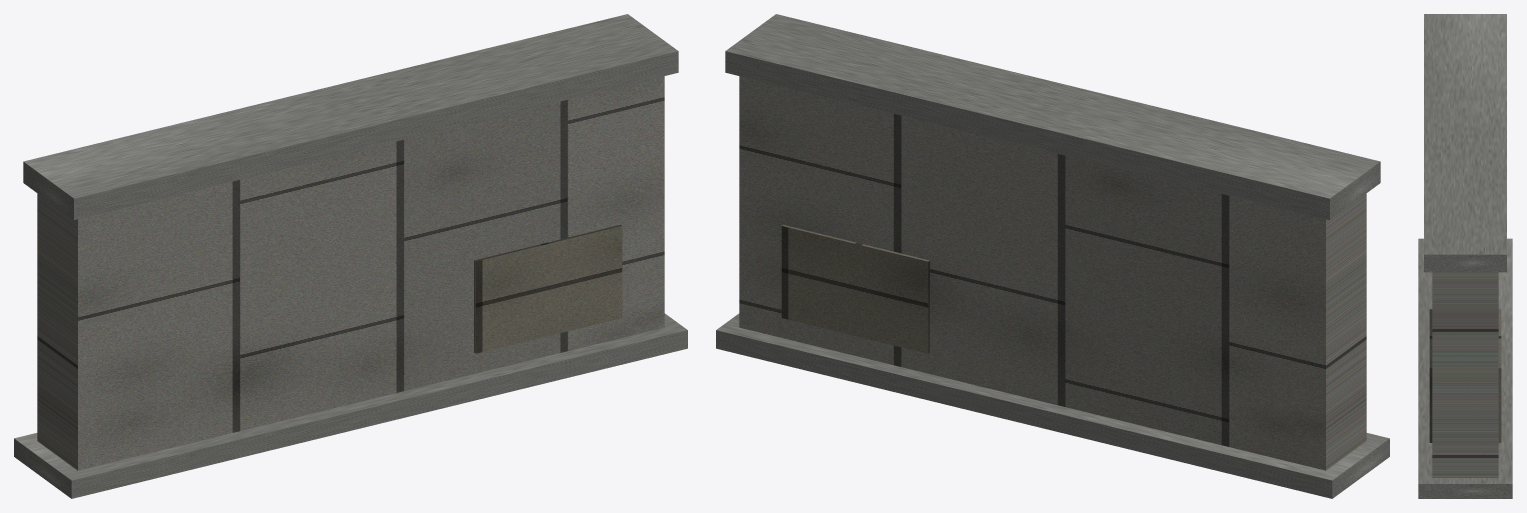
The model's file is WK_WALL_CinderWall2m.glb.
3 views of the same model, side by side, from view 1: azimuth 30°, elevation 25°; view 2: azimuth 150°, elevation 25°; view 3: azimuth 270°, elevation 25° (orthographic). The views are drawn at different scales.
Visible parts, largest first — view 1: WK_WALL_CinderWall2m_P01, WK_WALL_CinderWall2m_P02, WK_WALL_CinderWall2m_P03, WK_WALL_CinderWall2m_P04; view 2: WK_WALL_CinderWall2m_P01, WK_WALL_CinderWall2m_P02, WK_WALL_CinderWall2m_P03, WK_WALL_CinderWall2m_P04; view 3: WK_WALL_CinderWall2m_P02, WK_WALL_CinderWall2m_P01, WK_WALL_CinderWall2m_P03, WK_WALL_CinderWall2m_P04.
Boxes of the visible parts, box(x1,y1,x2,y2) form: WK_WALL_CinderWall2m_P01: box(37, 76, 664, 470); WK_WALL_CinderWall2m_P02: box(23, 14, 678, 219); WK_WALL_CinderWall2m_P03: box(14, 313, 687, 498); WK_WALL_CinderWall2m_P04: box(474, 224, 622, 353); WK_WALL_CinderWall2m_P01: box(739, 76, 1366, 470); WK_WALL_CinderWall2m_P02: box(725, 14, 1380, 219); WK_WALL_CinderWall2m_P03: box(716, 313, 1389, 498); WK_WALL_CinderWall2m_P04: box(781, 224, 929, 353); WK_WALL_CinderWall2m_P02: box(1424, 14, 1506, 272); WK_WALL_CinderWall2m_P01: box(1432, 272, 1498, 477); WK_WALL_CinderWall2m_P03: box(1418, 238, 1512, 498); WK_WALL_CinderWall2m_P04: box(1429, 309, 1501, 442).
Bounding box in the file's own units: 2.1 × 0.965 × 0.34.
3 materials, 3 textured.
